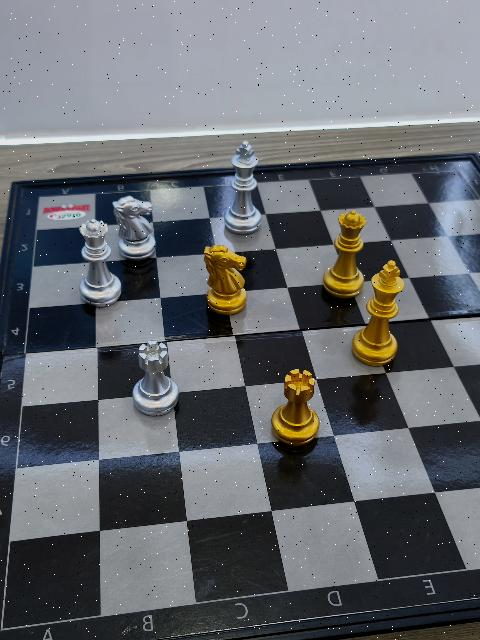black_king: (355, 261, 404, 365)
black_knight: (202, 245, 248, 318)
black_queen: (321, 211, 366, 299)
black_rook: (269, 368, 322, 449)
white_king: (223, 140, 264, 235)
white_knight: (112, 195, 158, 261)
white_queen: (78, 218, 118, 306)
white_rook: (130, 339, 180, 418)
